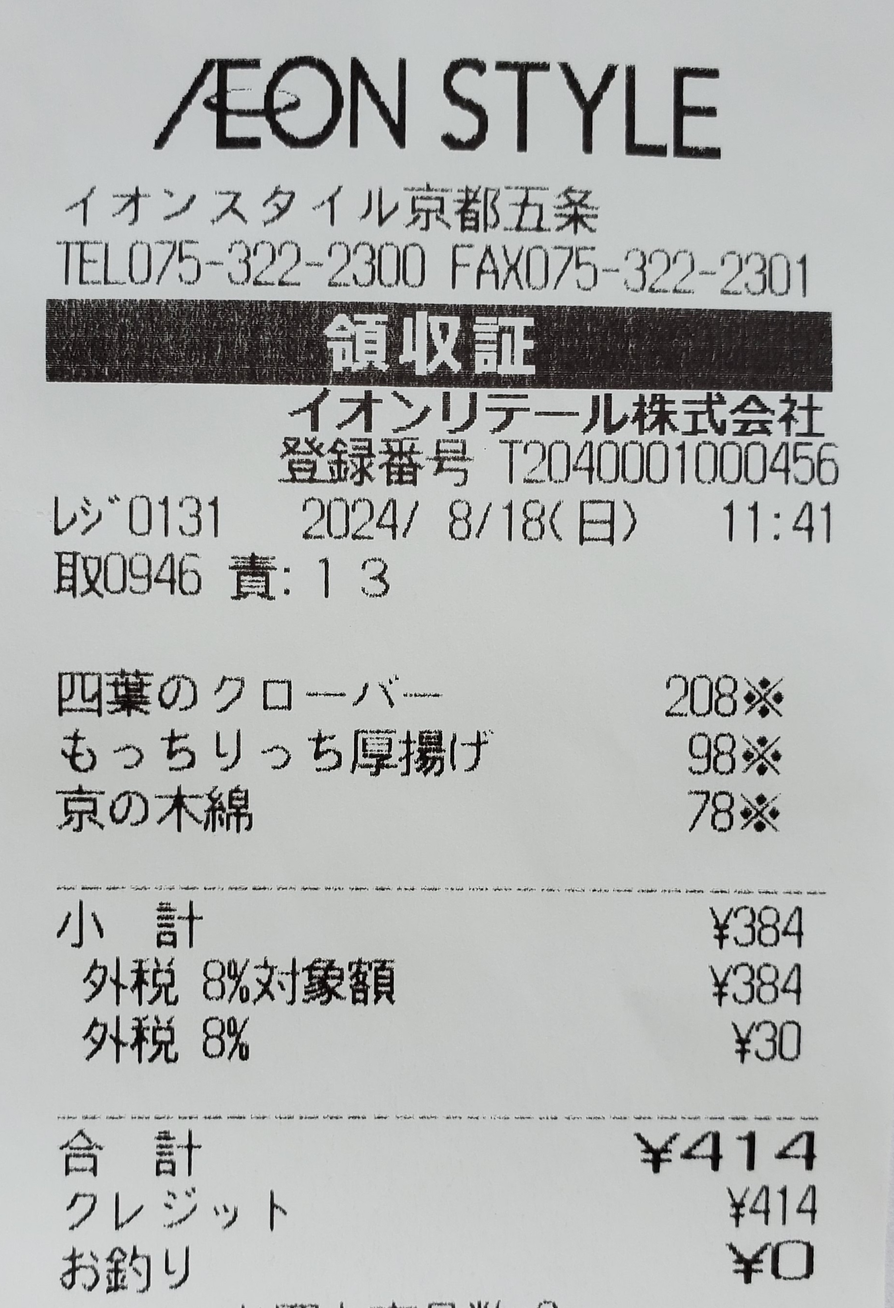Date: (294, 492, 549, 553)
Shopname: (137, 33, 753, 184)
Telnum: (126, 233, 439, 295)
Totalpay: (58, 1123, 832, 1181)
